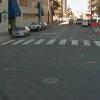Crosswalk: (9, 34, 99, 53)
